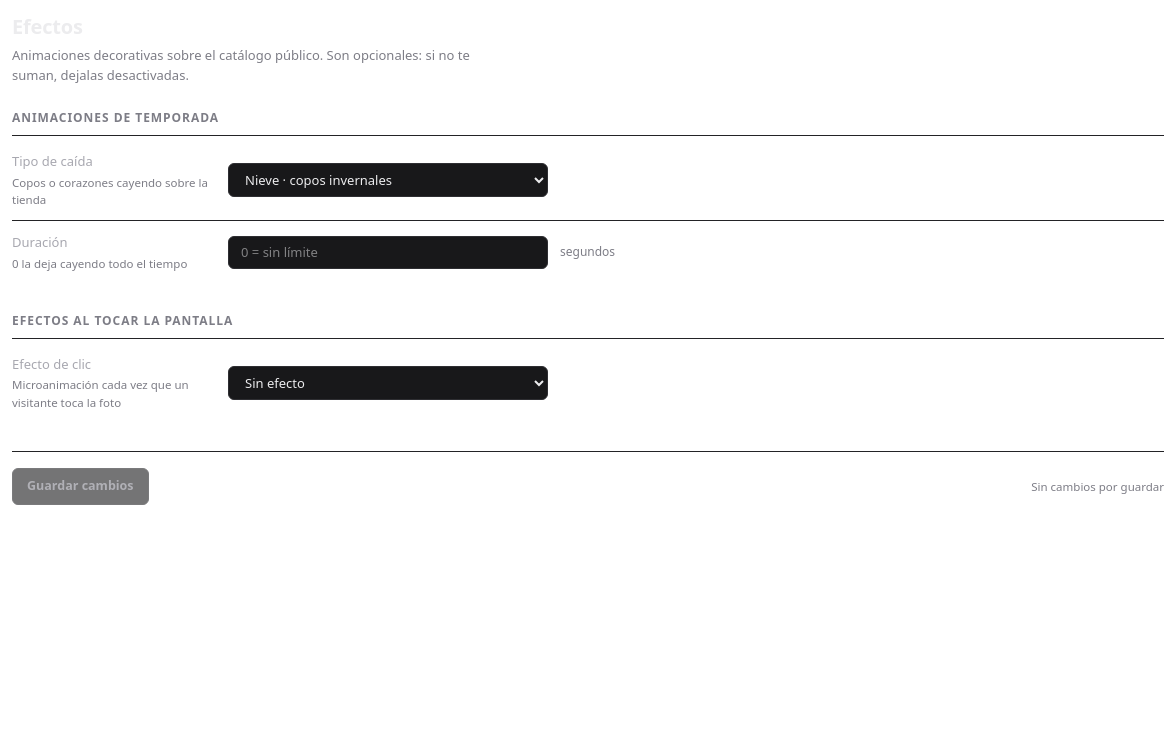
Test: EffectsTab › el campo de URL aparece sólo con el efecto personalizado
This screenshot has width=1176, height=732.
Step 1. Select "Icono propio · por URL" in the dropdown in the row of "Tipo de caída" → x=388, y=180, box [228,163,548,197]
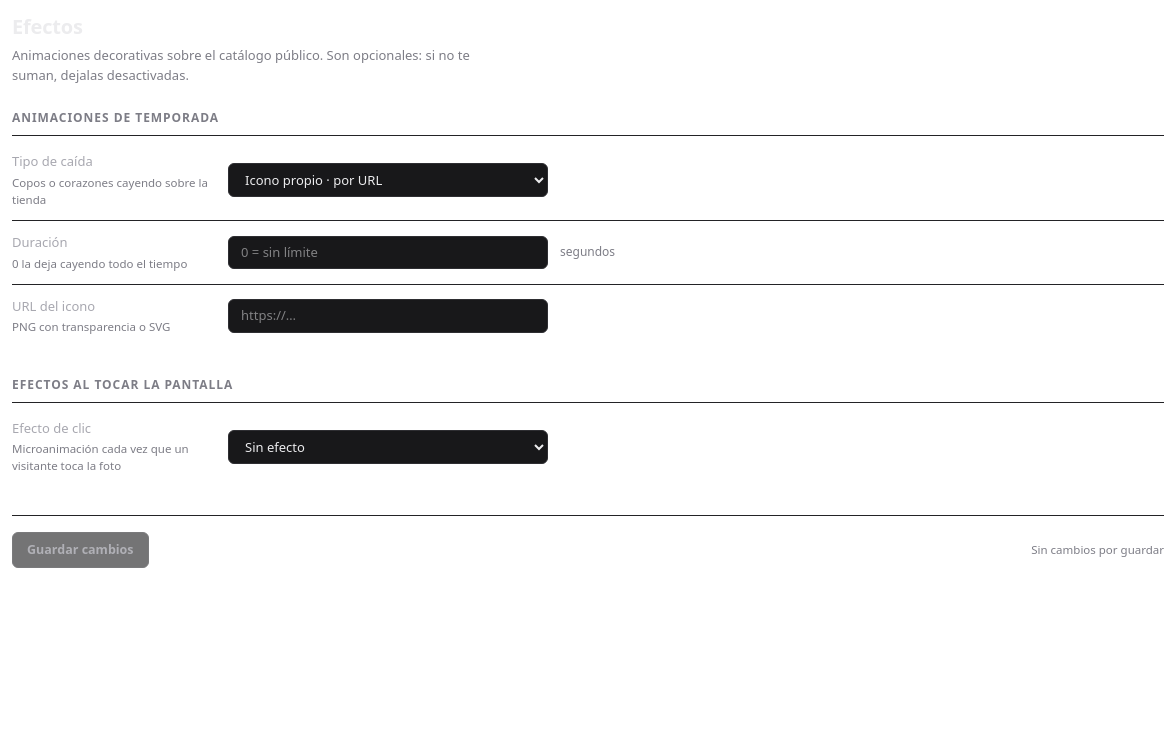
Expected: the field named "URL del icono personalizado" is shown, [228,299,548,333]
